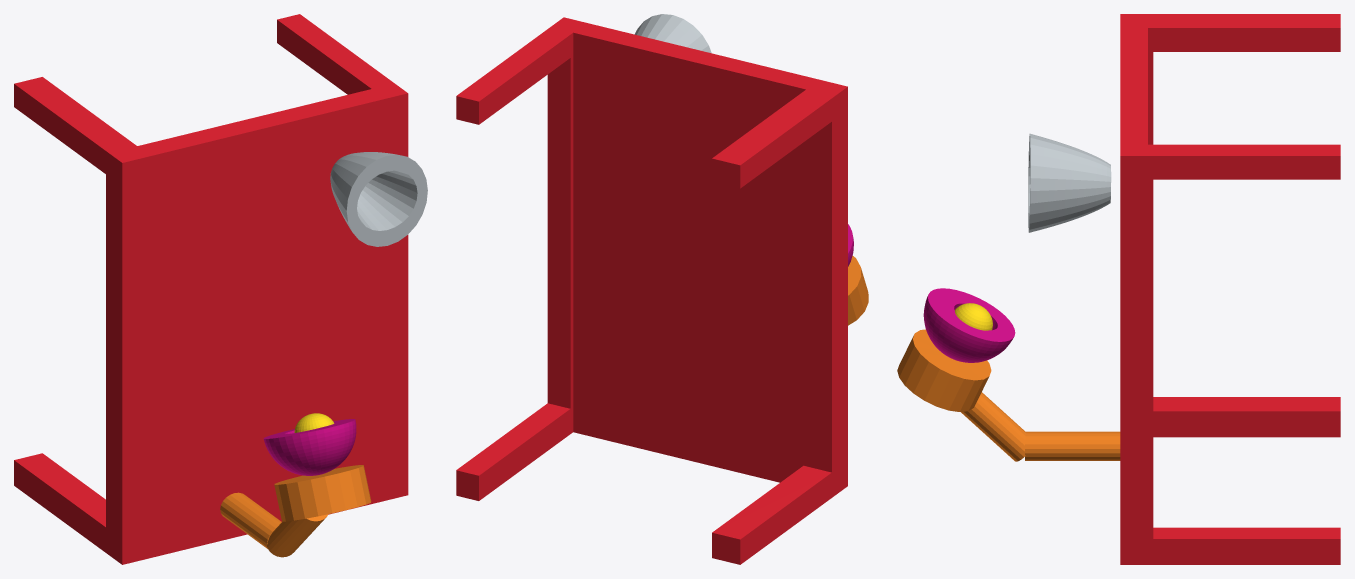
File: tinker.obj
3 renders of one model, left to right at view 1: azimuth 30°, elevation 25°; view 2: azimuth 150°, elevation 25°; view 3: azimuth 270°, elevation 25°, orthographic. The views are drawn at different scales.
Parts seen in each view (by area): view 1: group_0_15277357, group_0_12568524, group_0_16089887, group_0_14093196, group_0_16768282; view 2: group_0_15277357, group_0_12568524, group_0_16089887; view 3: group_0_15277357, group_0_16089887, group_0_12568524, group_0_14093196, group_0_16768282.
Part boxes in pixels (x1=…): group_0_15277357: x1=14, y1=14, x2=408, y2=564; group_0_12568524: x1=330, y1=152, x2=427, y2=246; group_0_16089887: x1=220, y1=465, x2=371, y2=557; group_0_14093196: x1=263, y1=419, x2=356, y2=475; group_0_16768282: x1=294, y1=413, x2=334, y2=432; group_0_15277357: x1=456, y1=17, x2=847, y2=564; group_0_12568524: x1=634, y1=14, x2=711, y2=53; group_0_16089887: x1=848, y1=256, x2=868, y2=325; group_0_15277357: x1=1120, y1=14, x2=1340, y2=564; group_0_16089887: x1=897, y1=329, x2=1120, y2=461; group_0_12568524: x1=1028, y1=133, x2=1111, y2=232; group_0_14093196: x1=923, y1=288, x2=1015, y2=362; group_0_16768282: x1=954, y1=303, x2=992, y2=330.
Size of the model in its own units: 70.18 by 94.31 by 92.68.
